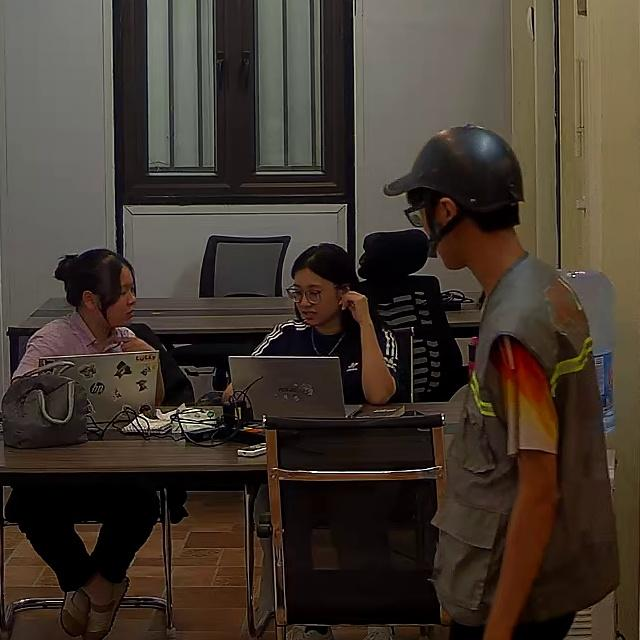helmet: (382, 125, 523, 213)
no_helmet: (291, 241, 370, 305), (54, 248, 132, 310)
none: (247, 316, 403, 407), (11, 311, 141, 384)
vest: (435, 262, 616, 626)
